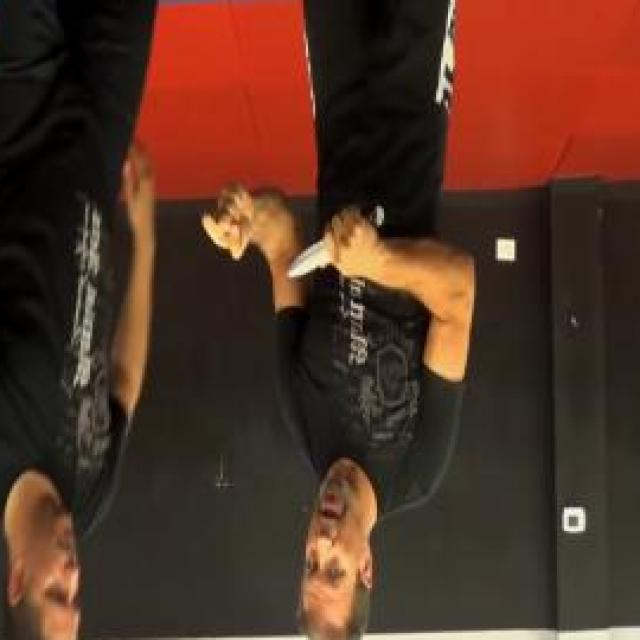knife: (282, 194, 396, 290)
